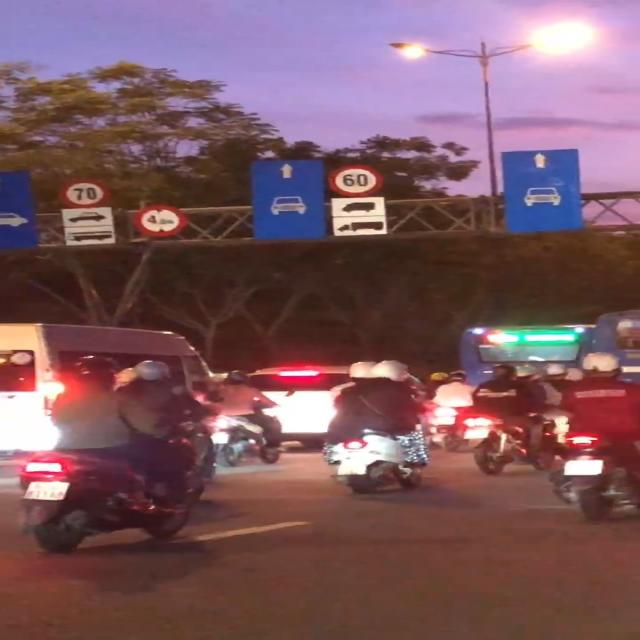Bien bao han che chieu cao: (135, 204, 191, 240)
Bien bao toc do toi da cho phep: (325, 160, 389, 198), (57, 178, 114, 208)
